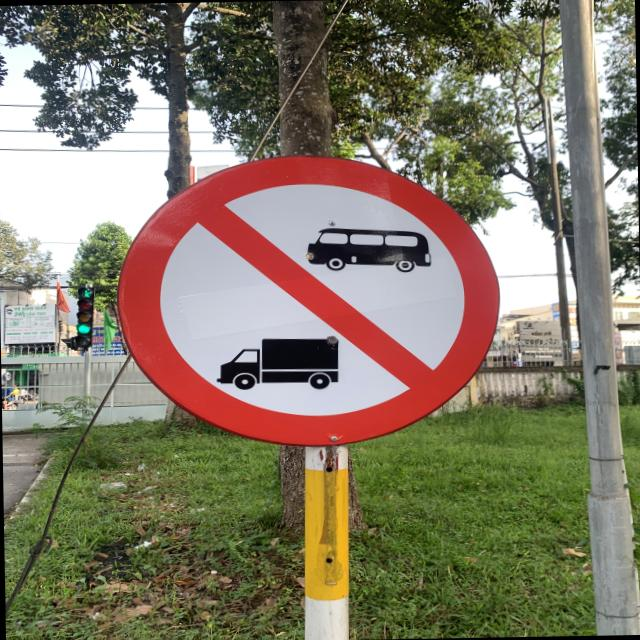Cam_XeTai_XeKhach: (114, 148, 500, 446)
